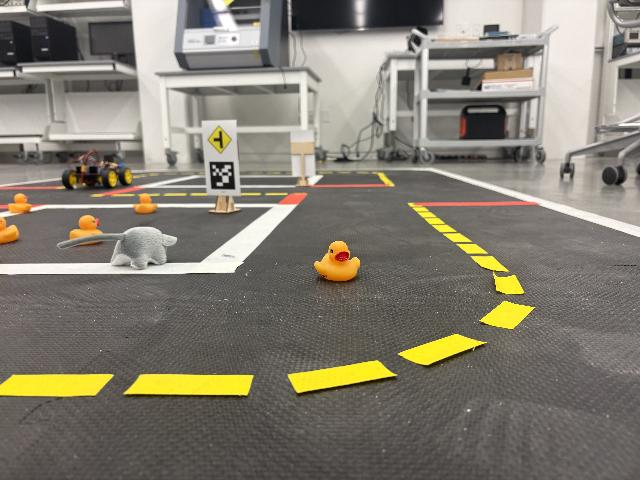duck: (313, 240, 362, 284), (69, 215, 104, 245), (131, 193, 158, 216), (0, 216, 19, 248), (8, 193, 31, 214)
l_intersection: (200, 121, 243, 213)
mouse: (57, 225, 178, 269)
redline: (411, 201, 537, 206), (276, 193, 310, 205), (8, 184, 66, 191), (314, 184, 397, 188), (101, 186, 142, 194)
whiteline: (197, 218, 297, 263), (539, 199, 640, 239), (427, 166, 535, 200), (1, 263, 242, 273), (144, 174, 202, 186), (257, 205, 304, 217), (245, 183, 296, 188)
yellowline: (403, 297, 556, 374), (0, 368, 416, 396), (409, 207, 524, 295), (93, 192, 207, 197), (374, 170, 395, 183)
